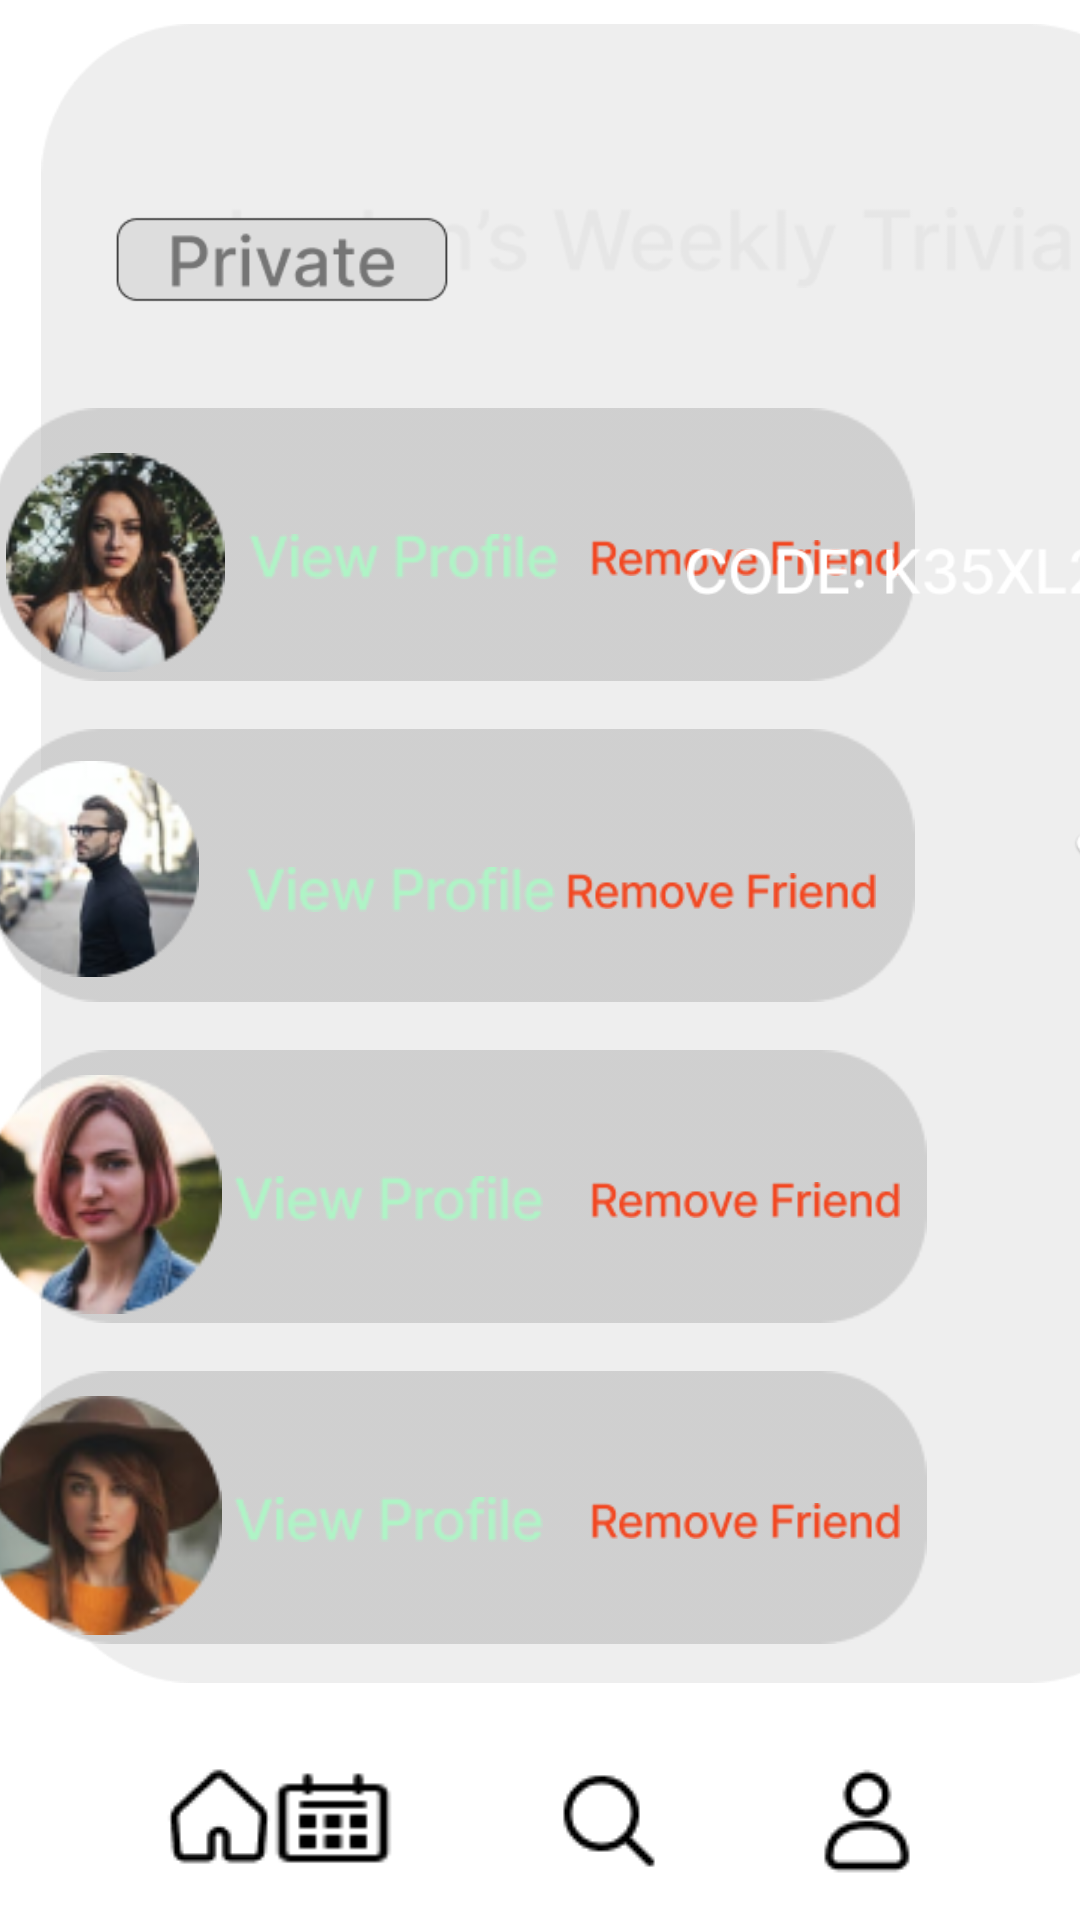

Icon bounding boxes for this 1080*1920 phone screenshot, format [x1,y1,x2,y2]:
calendar: [275,1773,391,1863]
home: [170,1769,268,1864]
search: [563,1775,655,1867]
